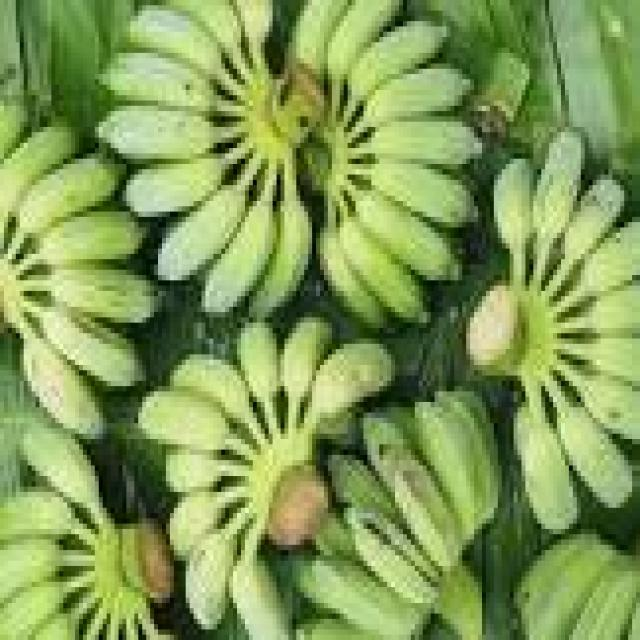banana: (518, 535, 620, 639), (297, 556, 422, 639), (384, 450, 462, 571), (360, 191, 462, 280), (415, 402, 481, 539), (340, 217, 426, 322), (348, 508, 438, 608), (435, 392, 501, 528), (202, 196, 276, 317), (514, 535, 612, 624), (24, 339, 106, 439), (40, 307, 142, 386), (159, 186, 244, 280), (20, 154, 122, 232), (514, 408, 576, 534), (558, 402, 632, 507), (348, 22, 446, 100), (249, 196, 312, 317), (309, 339, 395, 423), (368, 159, 474, 227), (0, 127, 79, 216), (103, 53, 213, 116), (20, 429, 102, 513), (127, 6, 221, 79), (99, 106, 217, 163), (320, 228, 387, 327), (364, 64, 470, 126), (48, 265, 158, 322), (328, 0, 399, 84), (368, 117, 481, 169), (127, 154, 221, 216), (534, 133, 584, 248), (139, 392, 229, 454), (170, 355, 252, 423), (40, 212, 146, 264), (569, 561, 639, 639), (467, 281, 525, 375), (368, 514, 442, 587), (565, 175, 624, 264), (230, 556, 292, 639), (186, 529, 237, 629), (577, 223, 639, 296), (577, 371, 639, 444), (328, 455, 399, 518), (281, 318, 331, 407), (166, 0, 240, 58), (494, 159, 533, 269), (0, 540, 63, 608), (0, 487, 75, 544), (293, 0, 347, 79), (364, 413, 414, 491), (435, 561, 485, 639), (0, 582, 63, 639), (238, 323, 280, 407), (170, 492, 221, 560), (581, 334, 639, 386), (585, 281, 639, 333), (166, 450, 221, 491), (234, 0, 272, 52), (313, 514, 355, 560), (297, 619, 383, 639), (0, 101, 27, 158), (32, 614, 79, 639), (629, 603, 639, 639)
